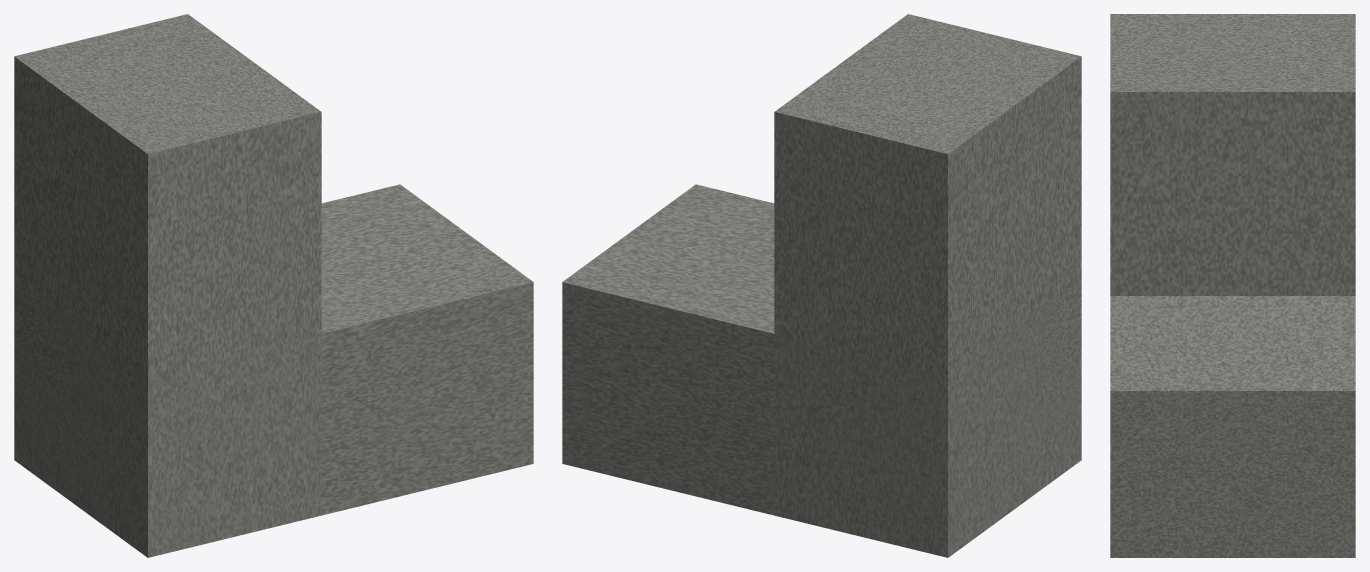
The picture shows the model from 3 angles, left to right: view 1: azimuth 30°, elevation 25°; view 2: azimuth 150°, elevation 25°; view 3: azimuth 270°, elevation 25°; orthographic projection. The views are drawn at different scales.
Visible parts, largest first — view 1: corner_parapet_lod0_run001; view 2: corner_parapet_lod0_run001; view 3: corner_parapet_lod0_run001.
Boxes of the visible parts, bbox=[...] form: corner_parapet_lod0_run001: bbox=[14, 14, 533, 557]; corner_parapet_lod0_run001: bbox=[562, 14, 1081, 557]; corner_parapet_lod0_run001: bbox=[1110, 14, 1355, 557].
Size of the model in its own units: 2 by 2 by 1.2.
Materials: 1 (1 with a texture image).
